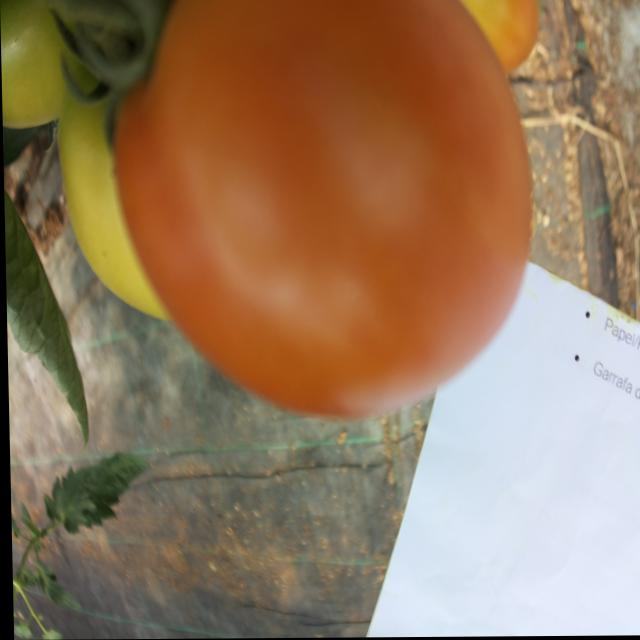kirmizi: (109, 24, 586, 389)
